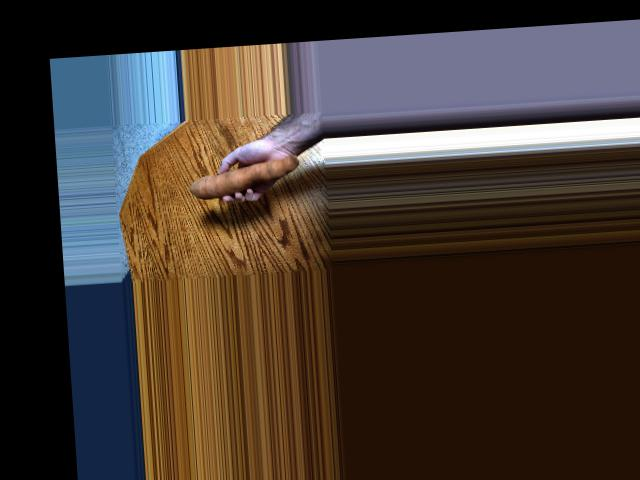sweet_potato: (182, 151, 295, 206)
